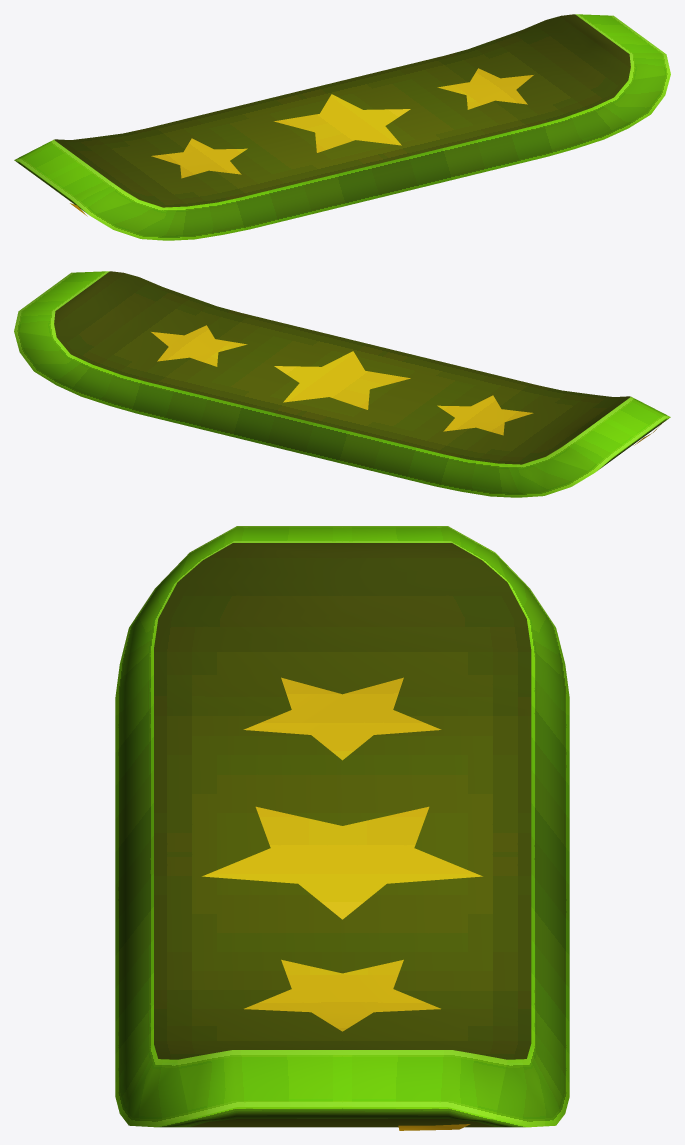
The model's file is Starboard.glb.
3 renders of one model, top to bottom at view 1: azimuth 30°, elevation 25°; view 2: azimuth 150°, elevation 25°; view 3: azimuth 270°, elevation 25°, orthographic. The views are drawn at different scales.
Visible parts, largest first — view 1: Starboard; view 2: Starboard; view 3: Starboard.
Boxes of the visible parts, x1,y1,x2,y2 form: Starboard: [14, 14, 670, 240]; Starboard: [14, 271, 670, 497]; Starboard: [115, 526, 569, 1130].
Bounding box in the file's own units: 8.35 × 0.7725 × 2.76.
Materials: 1 (1 with a texture image).
